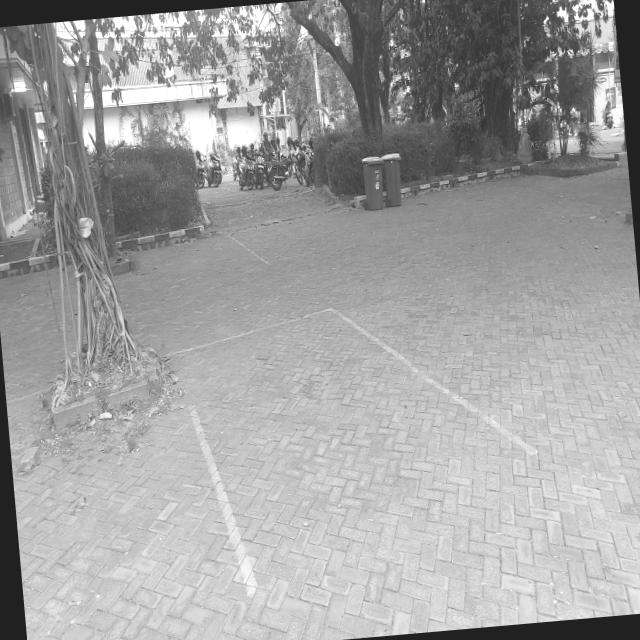free: (170, 307, 538, 593), (132, 233, 268, 301)
